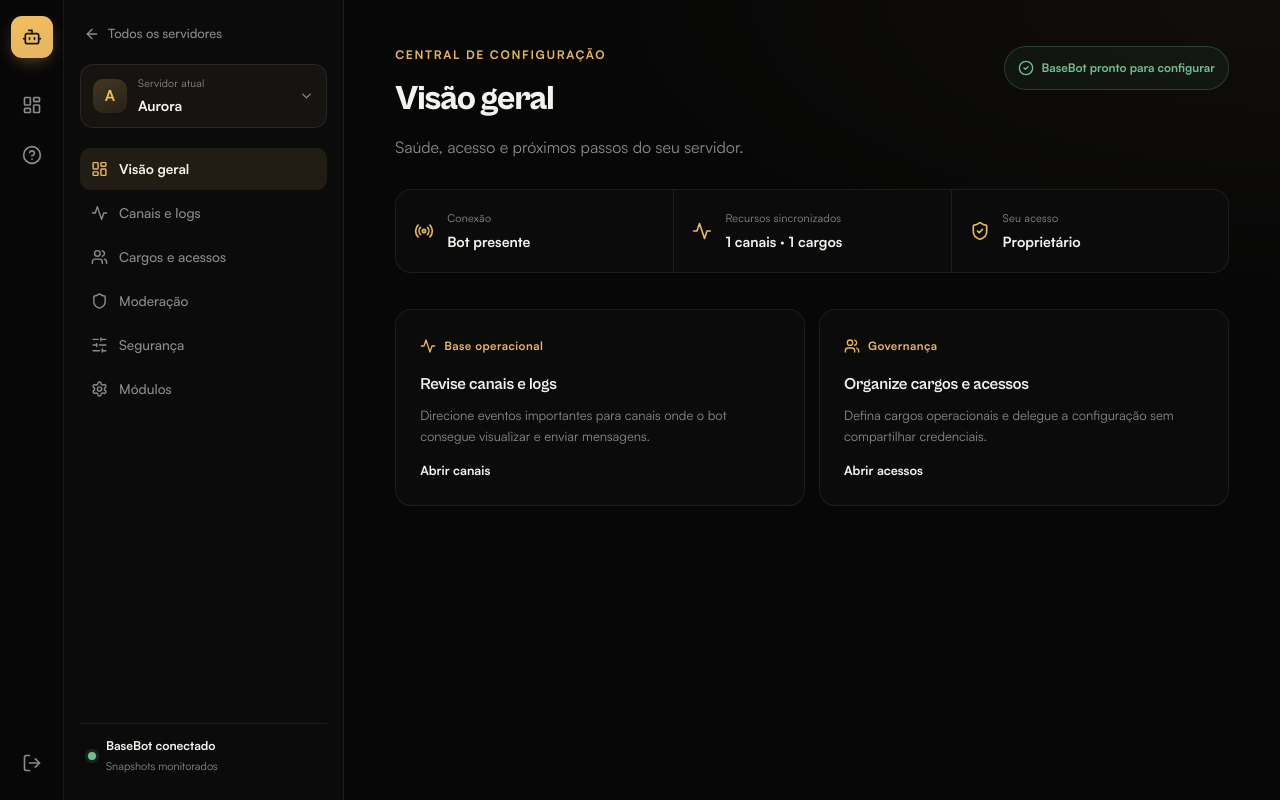
Scenario: dashboard routing › loads config once and stays mounted when navigating between sections
The image size is (1280, 800).
Expected: the heading "Visão geral" is shown, [395,79,554,119]
Click the link "Segurança" at x=138, y=345, box [91,333,184,357]
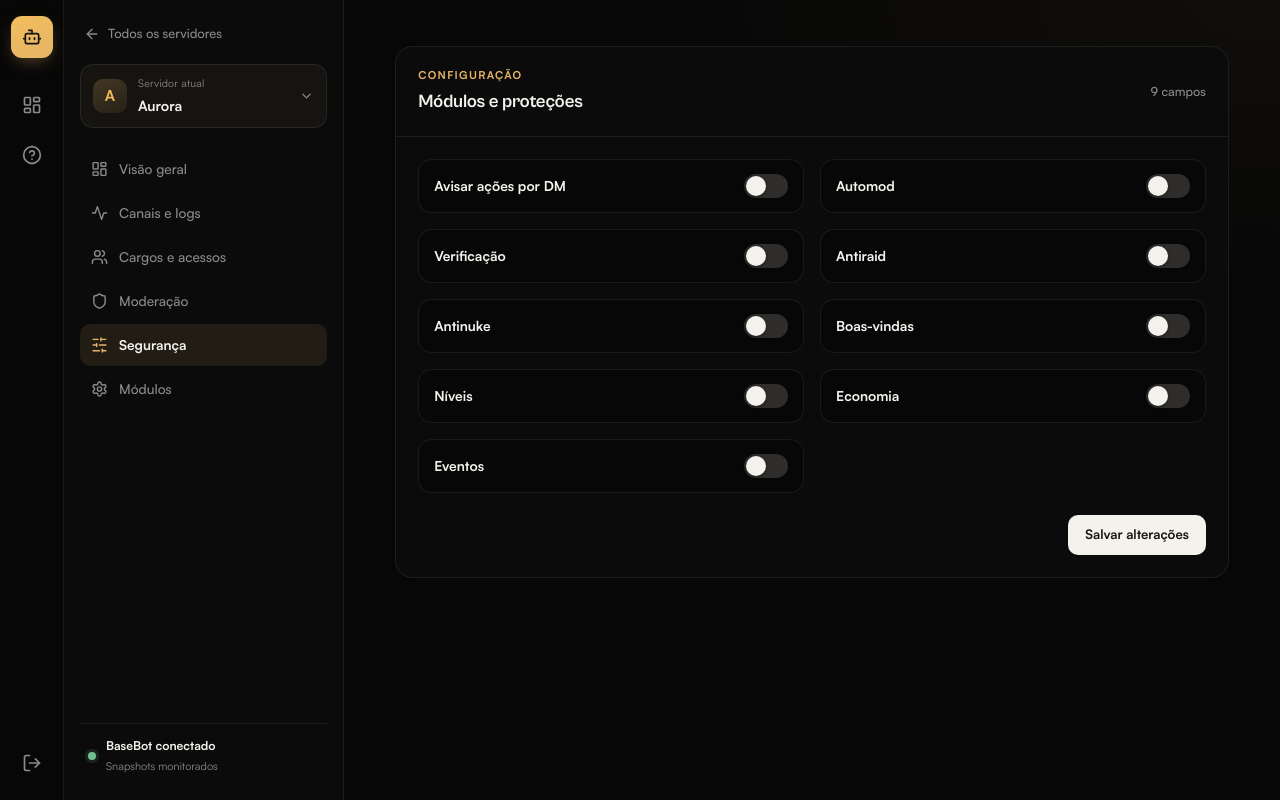
Result: the heading "Módulos e proteções" is shown at [418,88,583,116]
